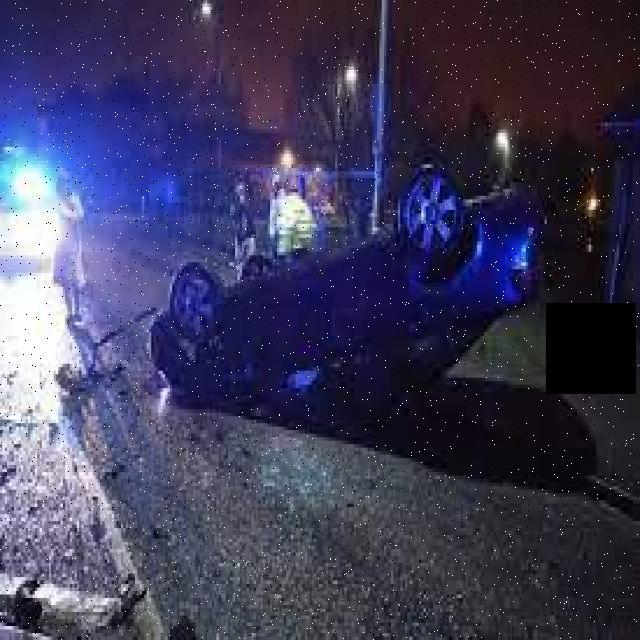single accident: (151, 103, 569, 459)
